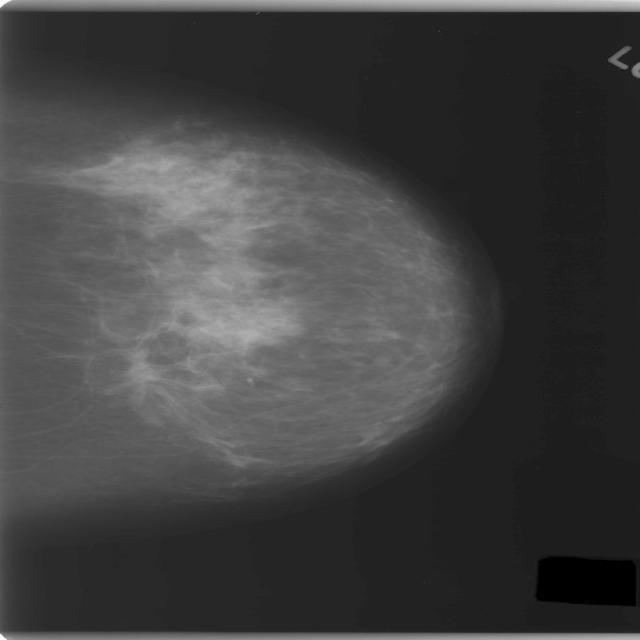tumour: (116, 348, 162, 393)
